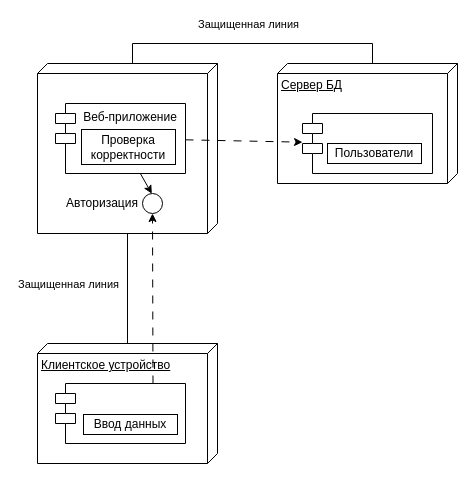
Image size: 475x481. Some labels were removed from this diagram. Here are the shapes that lost their labels. From the top down, the box of each, then its label:
(36, 62, 218, 234): Веб-сервер
(302, 112, 432, 174): База данных
(54, 382, 186, 444): Браузер
